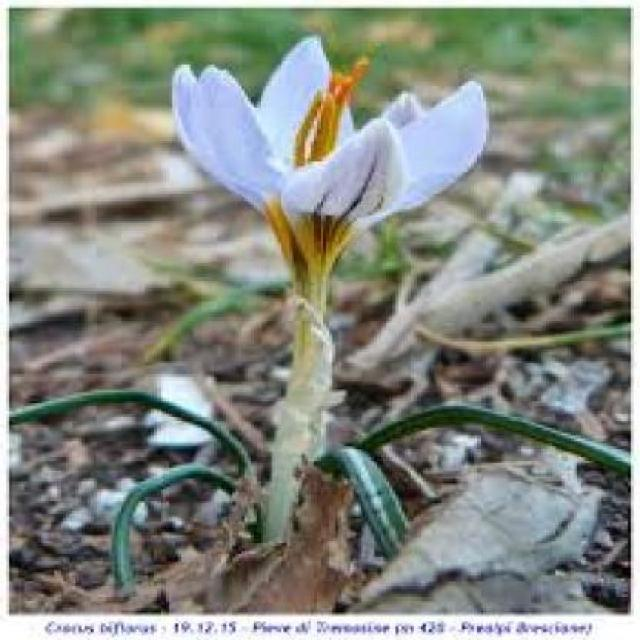saffron open: (172, 36, 489, 539)
